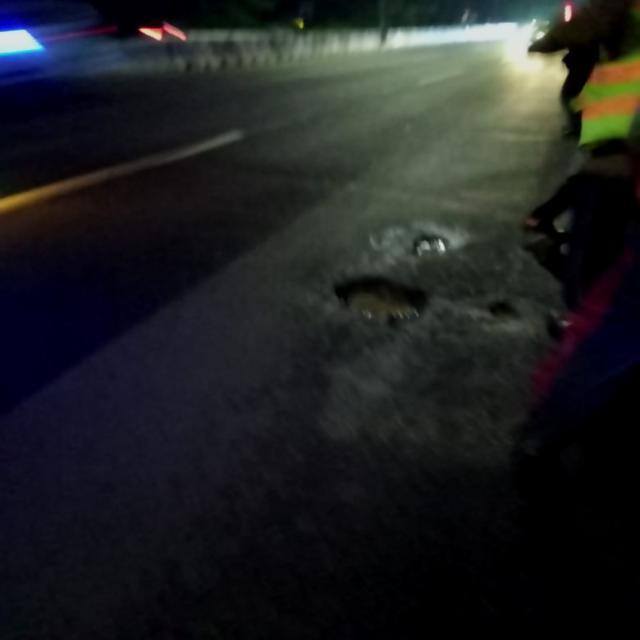Buraco: (327, 273, 435, 331), (407, 231, 454, 260), (482, 298, 522, 321)
